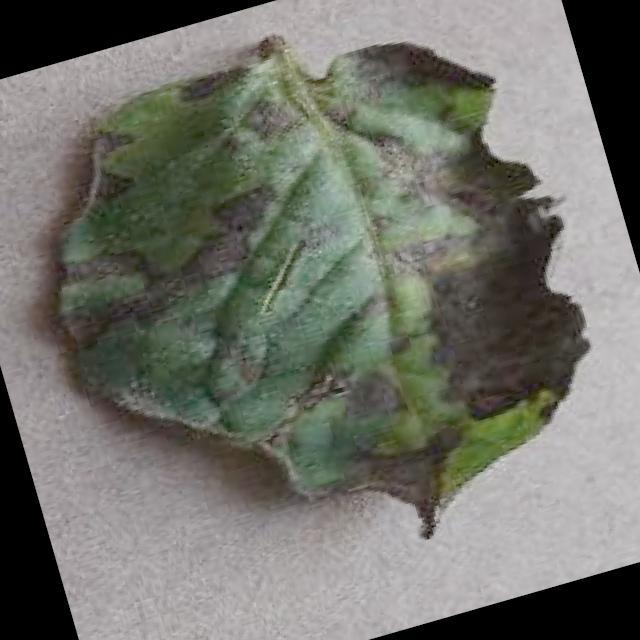Tomato Early blight leaf: (6, 0, 640, 622)
